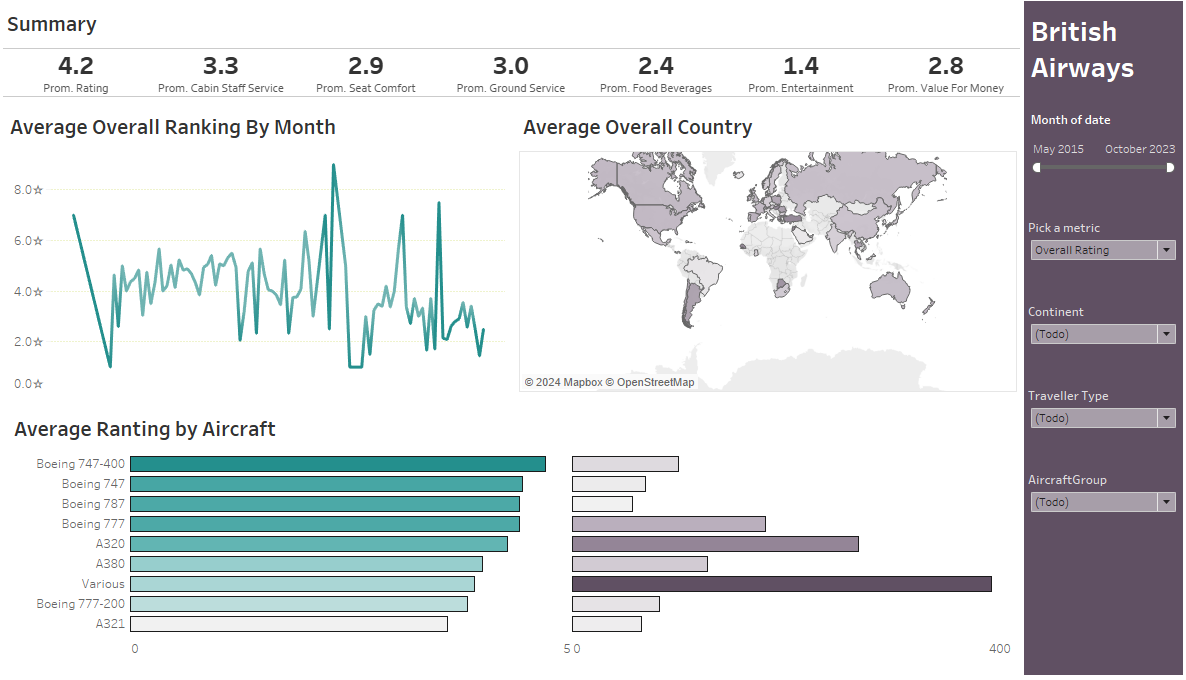

The dashboard page shown, as its layout file describes it:
{"tool":"tableau","page":{"name":"British Airway Dashboard","canvas":[1200,690],"ordinal":0},"visuals":[{"type":"worksheet","title":"Summary","mark":"Automatic","box":[8,8,1025,100]},{"type":"text","box":[1033,8,159,95]},{"type":"text","box":[1033,103,159,36]},{"type":"worksheet","title":"Average Overall Ranking By Month","mark":"Line","rows":["rating"],"cols":["date_flown"],"box":[8,108,513,298]},{"type":"worksheet","title":"Average Overall Country","mark":"Multipolygon","box":[521,108,512,298]},{"type":"filter","title":"Average Overall Ranking By Month","param":"[federated.19wjtc90z61jo910dpmvv16pg01w].[tmn:date_flown:qk]","box":[1033,139,159,51]},{"type":"blank","box":[1033,190,159,32]},{"type":"parameter","param":"[Parameters].[Parámetro 2]","box":[1033,222,159,52]},{"type":"blank","box":[1033,274,159,32]},{"type":"filter","title":"Average Overall Ranking By Month","param":"[federated.19wjtc90z61jo910dpmvv16pg01w].[none:Continent:nk]","box":[1033,306,159,52]},{"type":"blank","box":[1033,358,159,32]},{"type":"filter","title":"Average Overall Ranking By Month","param":"[federated.19wjtc90z61jo910dpmvv16pg01w].[none:traveller_type:nk]","box":[1033,390,159,52]},{"type":"worksheet","title":"Average Ranting by Aircraft ","mark":"Bar","cols":["Calculation_986569823963860992","ba_reviews.csv_CAEB0876CC6C4D6E90990CE4EE32F986"],"box":[8,406,1025,276]},{"type":"blank","box":[1033,442,159,32]},{"type":"filter","title":"Average Overall Ranking By Month","param":"[federated.19wjtc90z61jo910dpmvv16pg01w].[Aircraft (grupo) 1]","box":[1033,474,159,52]}]}

Visuals, with their boxes in screenshot pixels (x1, y1, x2, y2), scaled from the page's 1200x690 canvas onto the 1186x680 screenshot:
"Summary" worksheet: box=[8, 8, 1021, 106]
text: box=[1021, 8, 1178, 102]
text: box=[1021, 102, 1178, 137]
"Average Overall Ranking By Month" worksheet (Line marks): box=[8, 106, 515, 400]
"Average Overall Country" worksheet (Multipolygon marks): box=[515, 106, 1021, 400]
"Average Overall Ranking By Month" filter: box=[1021, 137, 1178, 187]
blank: box=[1021, 187, 1178, 219]
parameter: box=[1021, 219, 1178, 270]
blank: box=[1021, 270, 1178, 302]
"Average Overall Ranking By Month" filter: box=[1021, 302, 1178, 353]
blank: box=[1021, 353, 1178, 384]
"Average Overall Ranking By Month" filter: box=[1021, 384, 1178, 436]
"Average Ranting by Aircraft " worksheet (Bar marks): box=[8, 400, 1021, 672]
blank: box=[1021, 436, 1178, 467]
"Average Overall Ranking By Month" filter: box=[1021, 467, 1178, 518]
